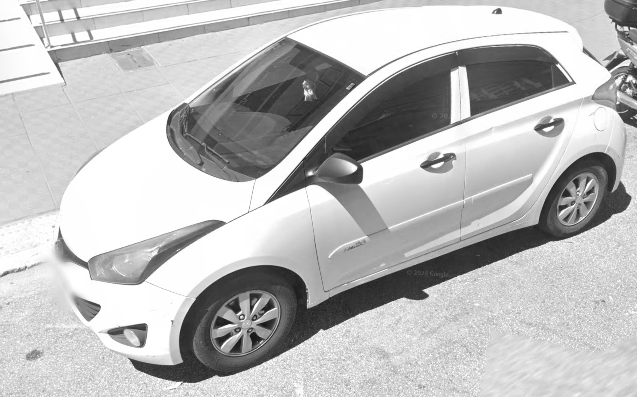car: (52, 5, 625, 371)
